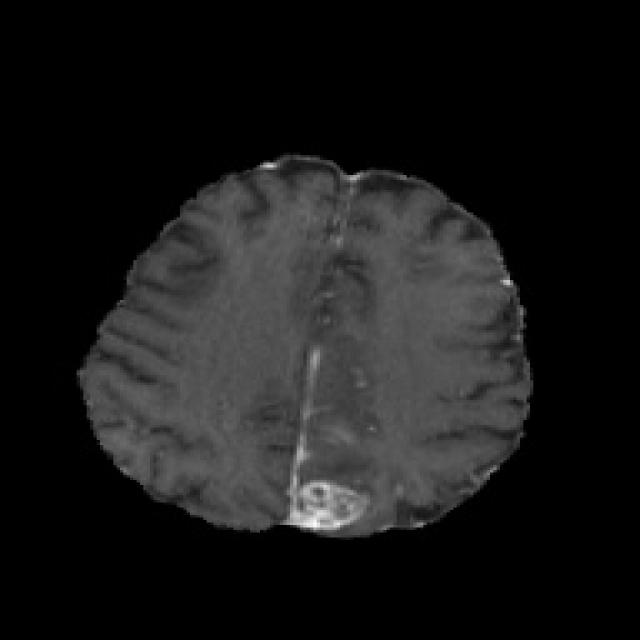positive: (295, 480, 365, 530)
